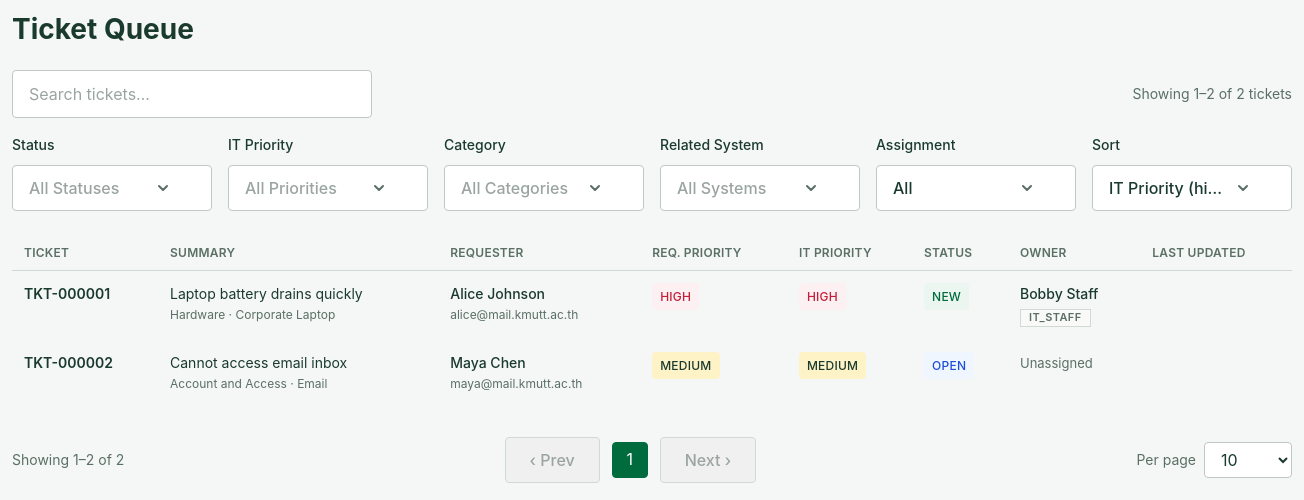
Test: StaffTicketQueue (UI-06) › debounces the search input (300ms) and refetches
Expected: the text "Showing 1–2 of 2 tickets" is shown, x1=1132 y1=83 x2=1292 y2=106
Type "laptop" into the search field with test id "queue-search-input". click: (192, 94)
box: x1=12 y1=70 x2=372 y2=118
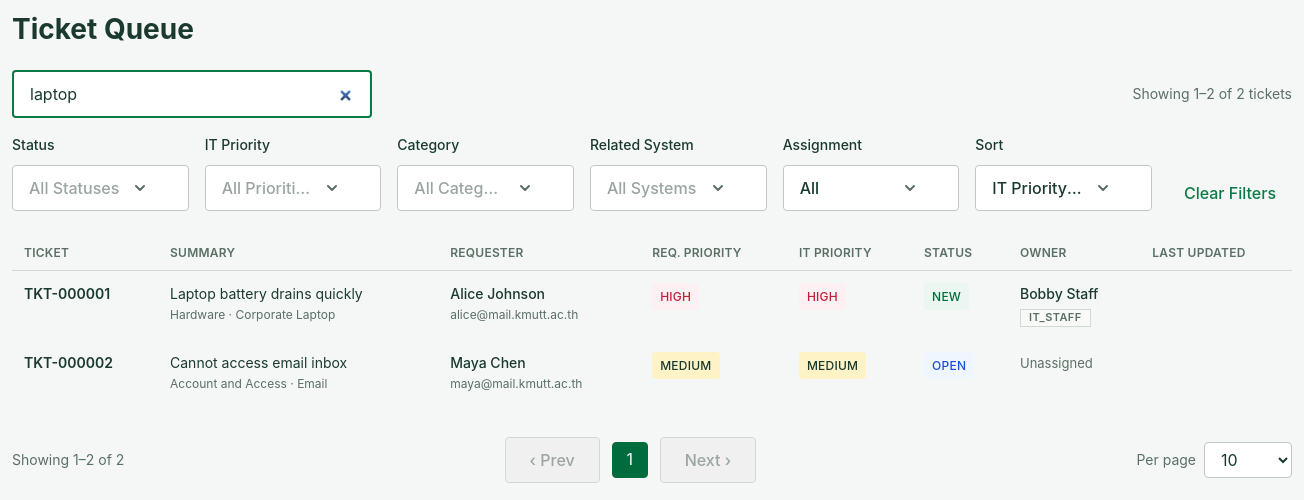
Expected: the button with test id "queue-clear-filters-btn" is shown, x1=1168 y1=175 x2=1292 y2=211
